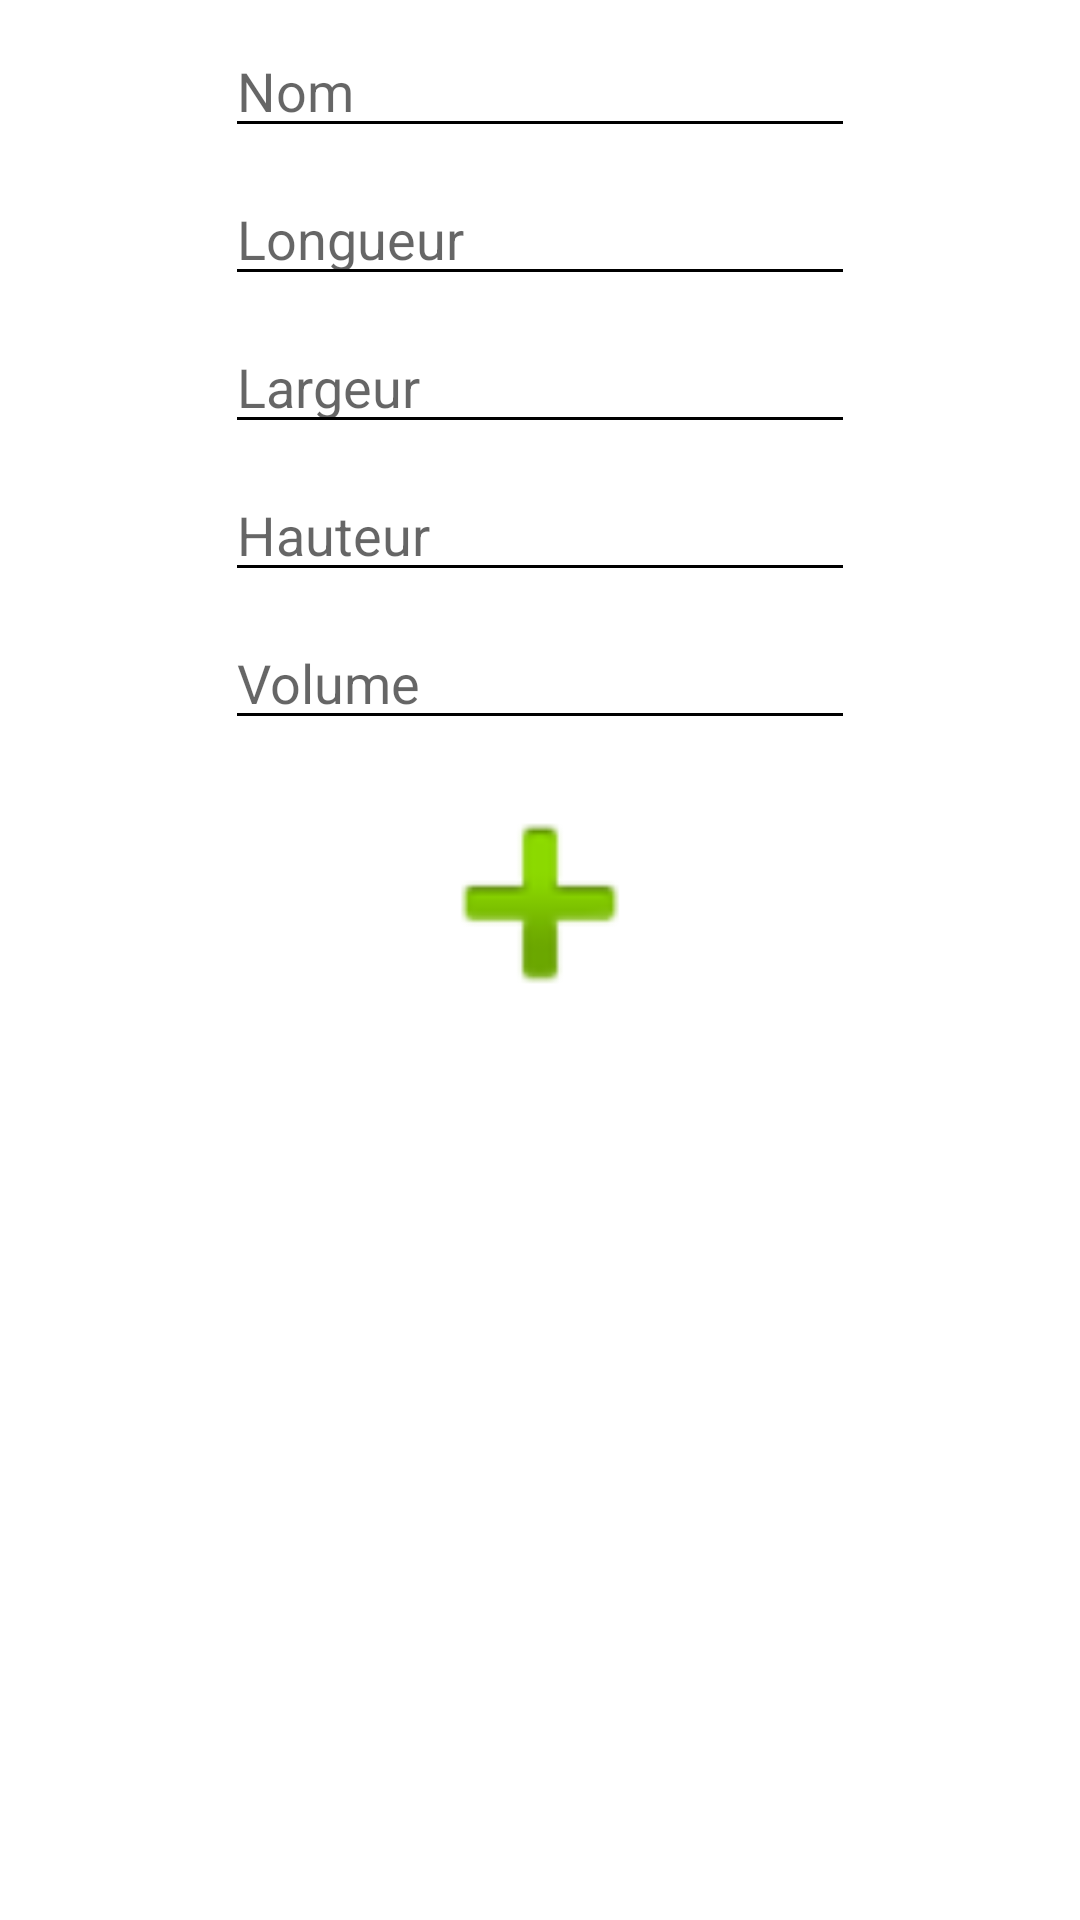

Screen size 1080*1920. Icon name, then its center in pixels as (x=x, y=y):
add: (x=540, y=903)
